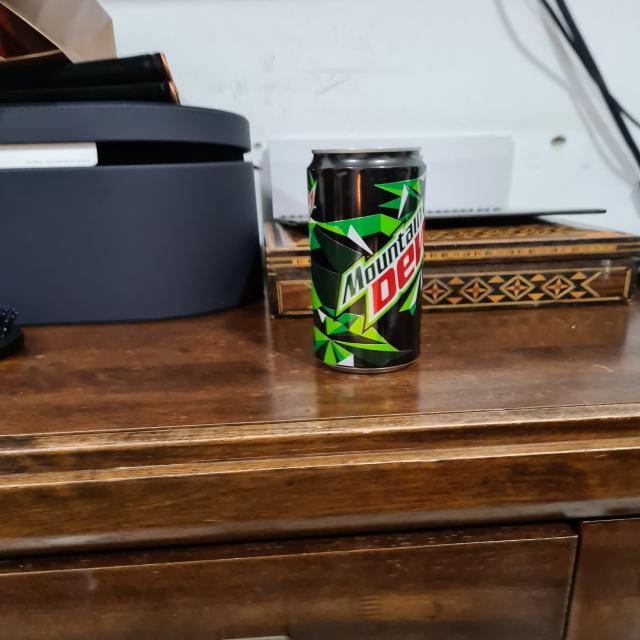non-organic waste: (297, 143, 430, 370)
